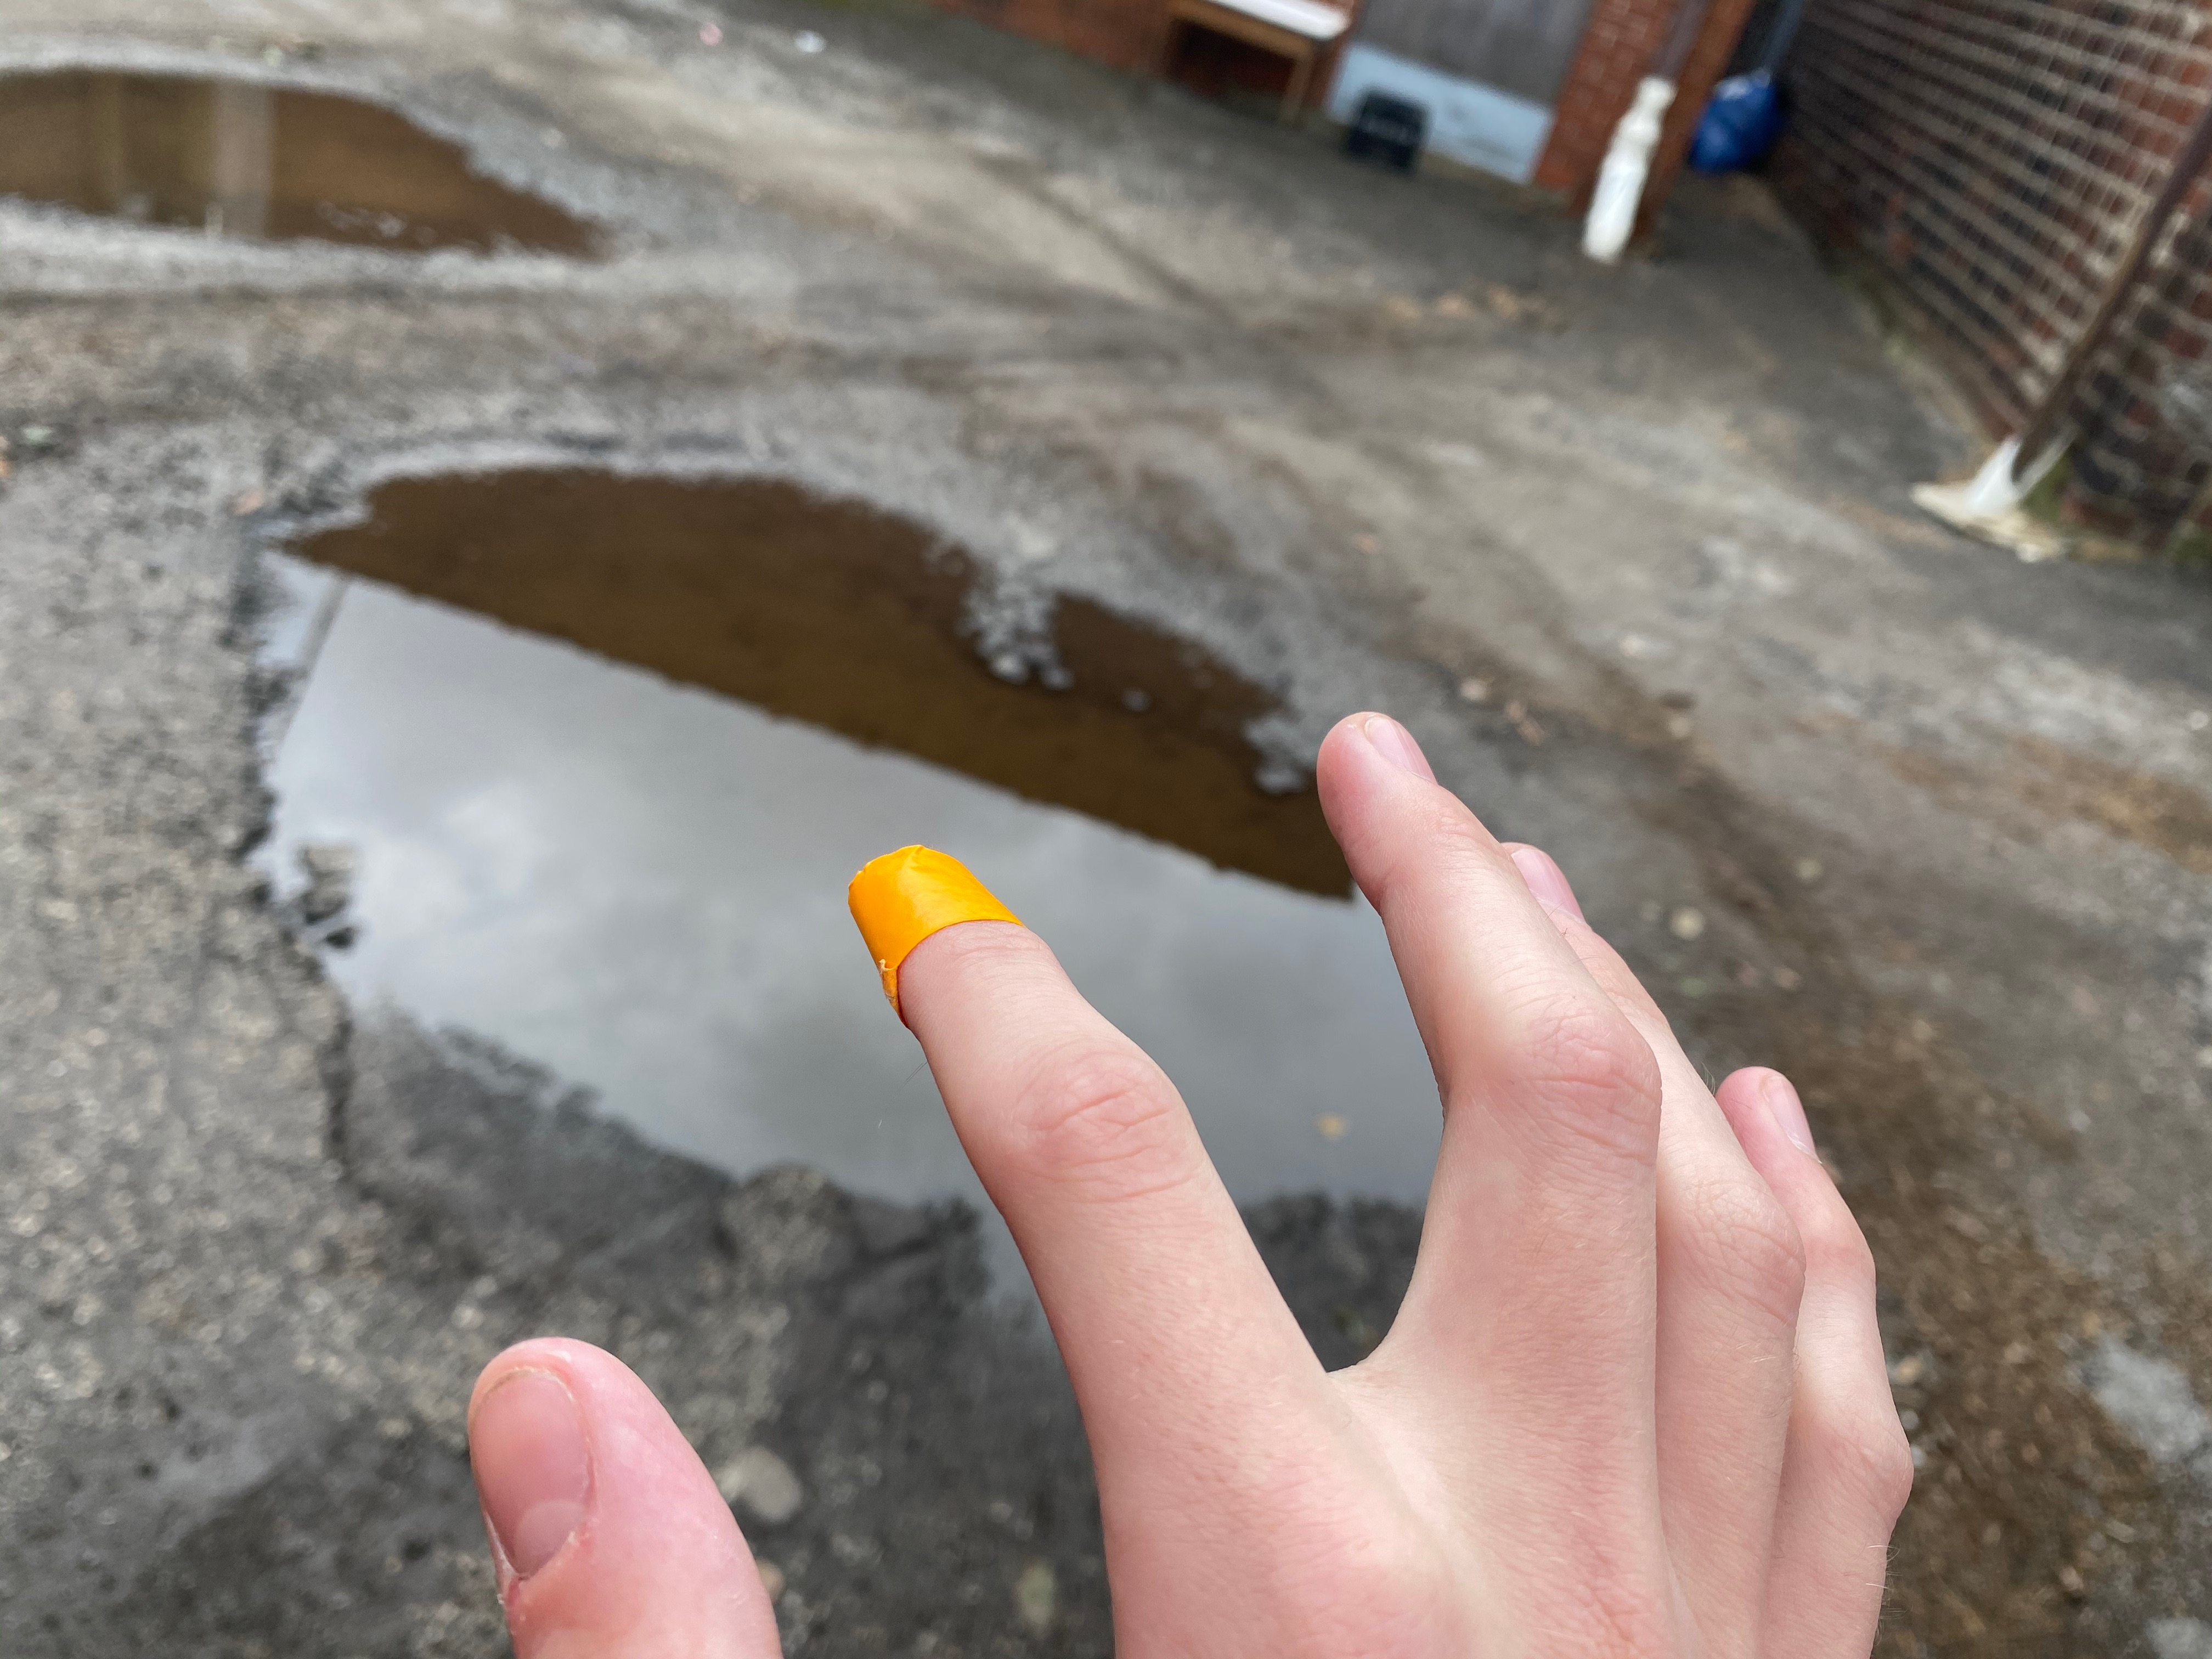fingertip: (801, 831, 1031, 1007)
